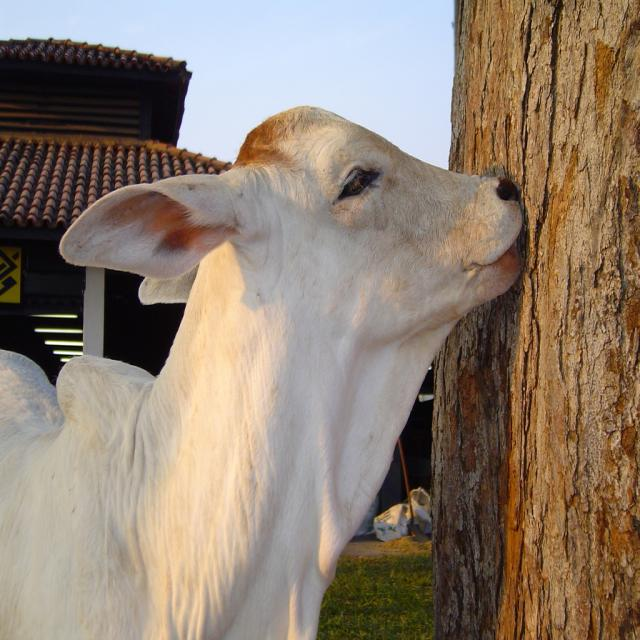Cattle: (0, 90, 529, 640)
